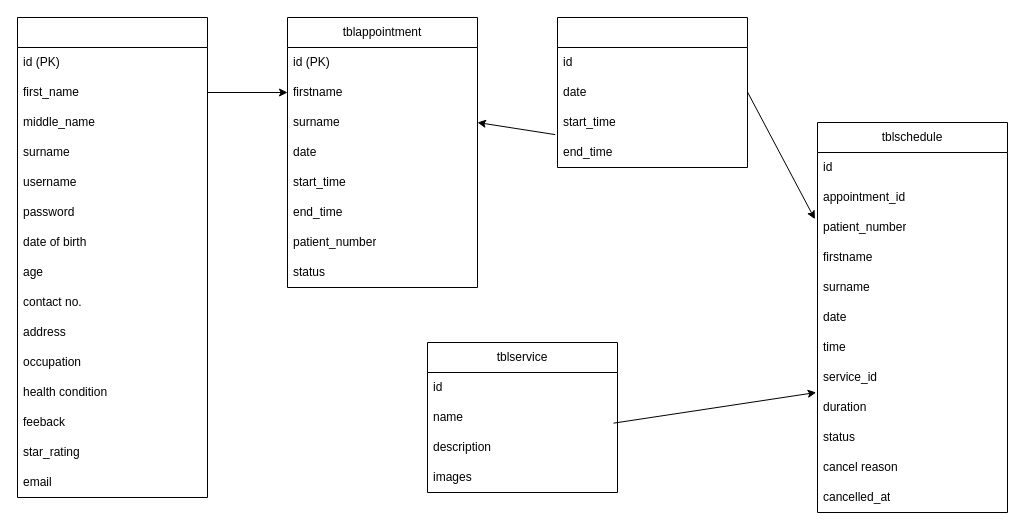
The diagram is 1025 pixels wide and 530 high, and some of its shapes have lost their labels. Here are the shapes that lost their labels. From the top down, the box of each, then its label:
(556, 16, 748, 168): tblcalendar
(16, 16, 208, 498): tblpatient
